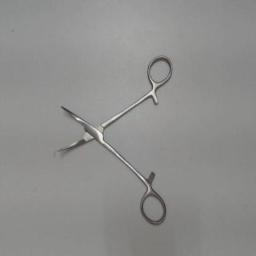Crile Artery Forceps: (52, 50, 174, 232)
